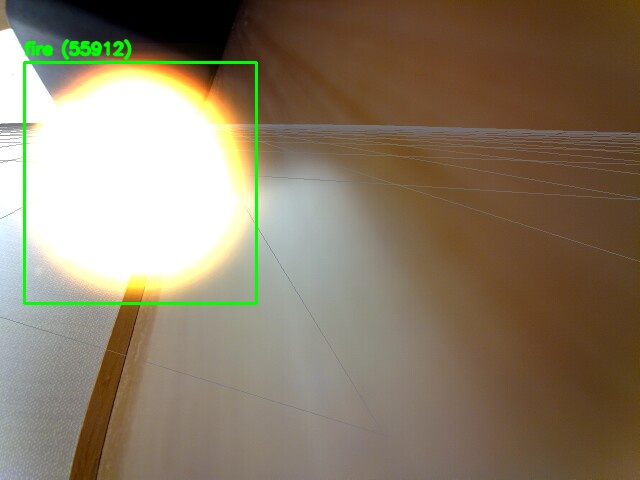fire: (24, 62, 256, 303)
